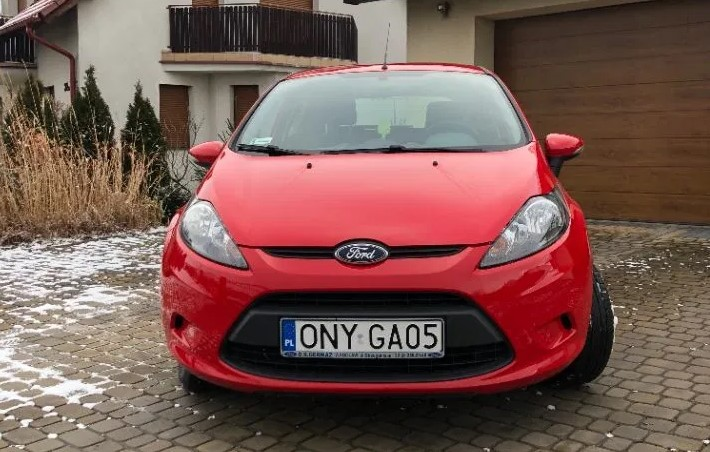number_plate: (274, 313, 452, 362)
